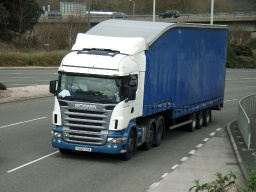truck: (50, 15, 224, 160)
